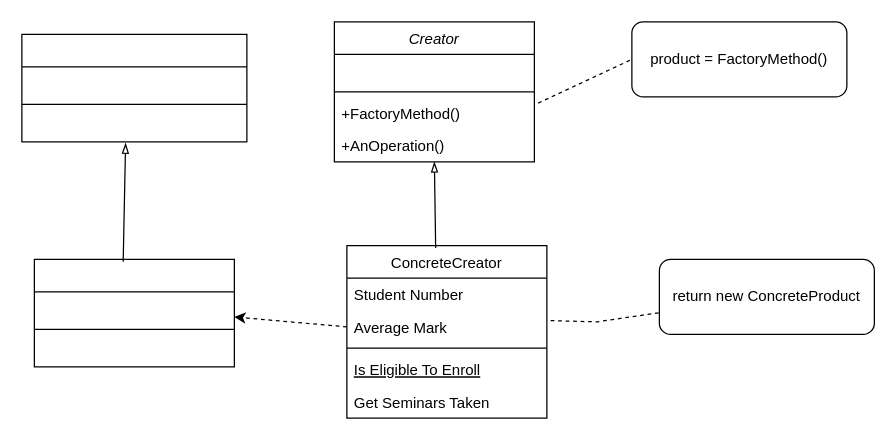
The diagram is 896 pixels wide and 444 high, and some of its shapes have lost their labels. The centre of each missing label's shape, as x and y in pixels:
ConcreteProduct: the point at 133,312
Product: the point at 134,87
